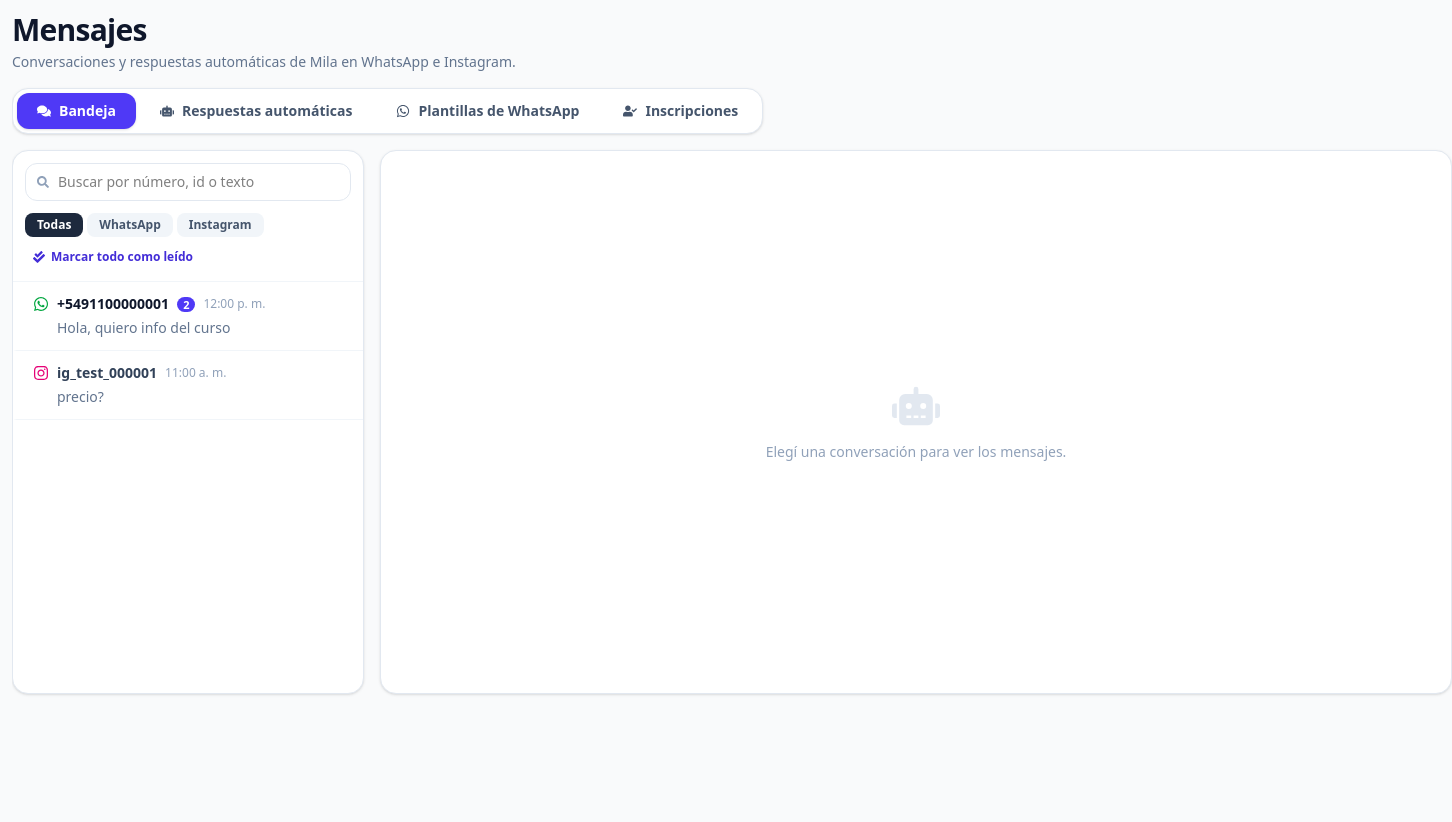
Test case: BotMessagePage › conversation › loads the messages of the selected conversation by channel and id
Click the button "+5491100000001 2 12:00 p. m. Hola, quiero info del curso" at (188, 316), box [13,282,363,351]
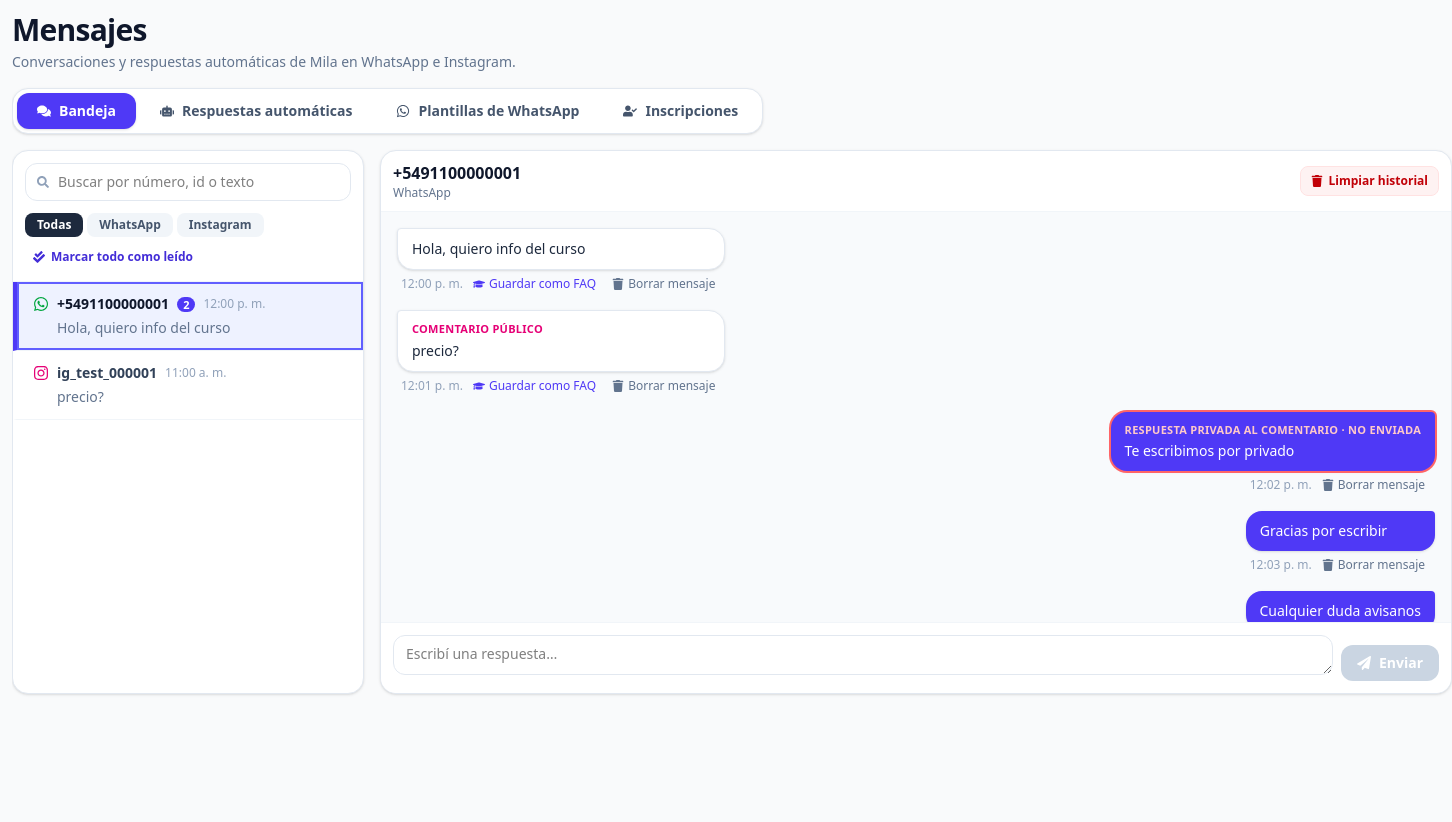
expect the text "Te escribimos por privado" is shown: met, box [1125,441,1294,460]
